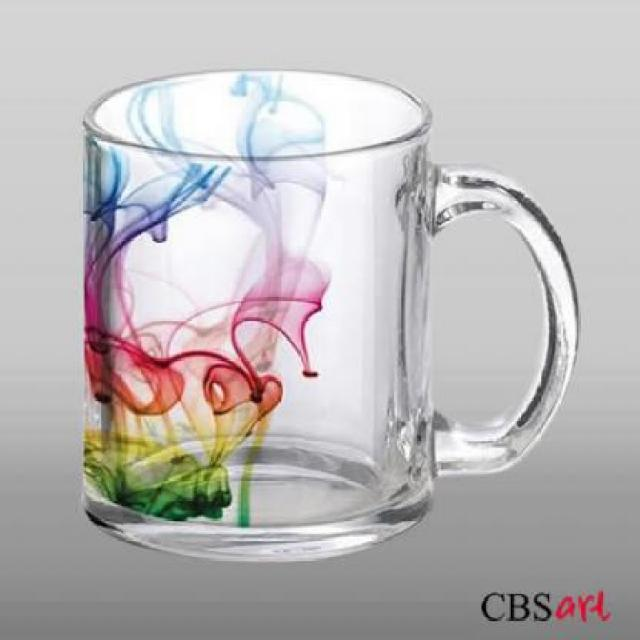taza: (80, 67, 580, 564)
